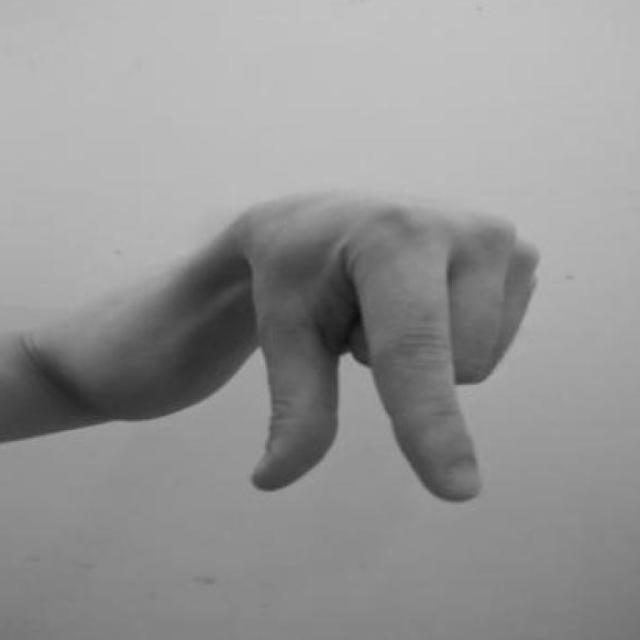Q: (223, 172, 544, 526)
